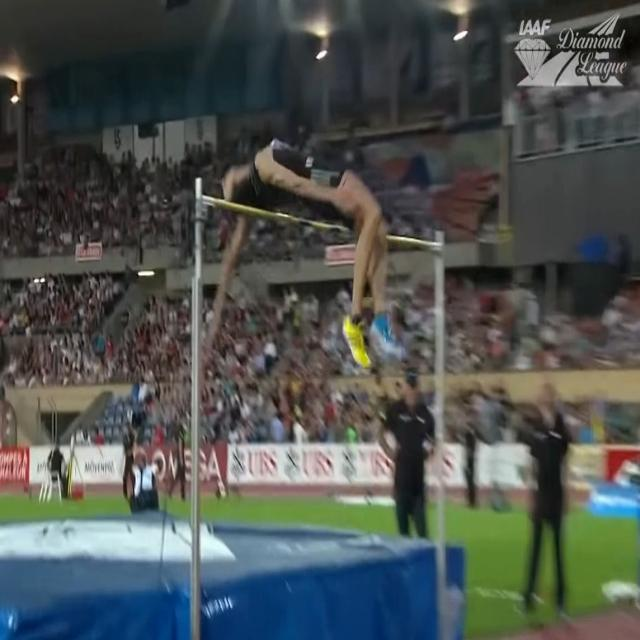jump: (216, 132, 409, 368)
